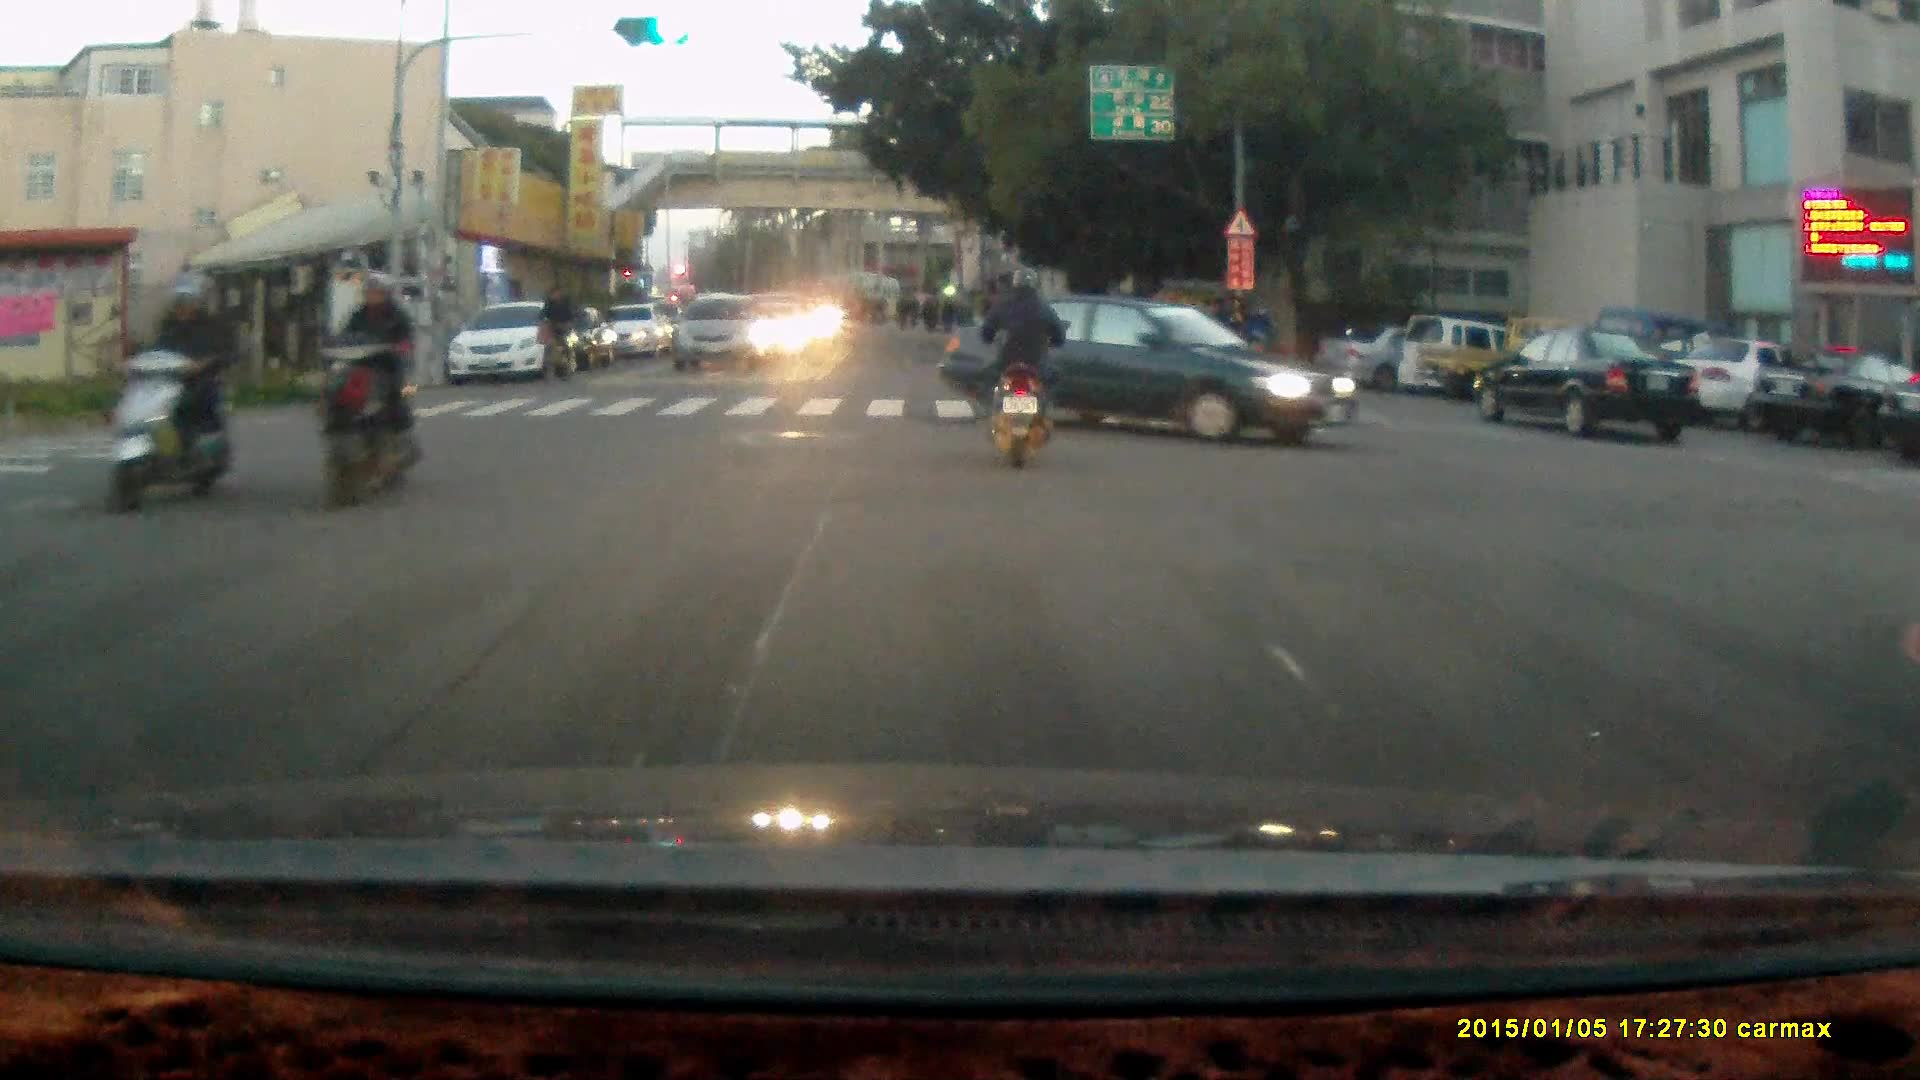rider: (105, 270, 238, 516), (306, 265, 425, 514), (977, 263, 1068, 464), (535, 281, 576, 381), (1233, 302, 1279, 374)
vehicle: (927, 288, 1359, 449), (1472, 331, 1705, 440), (1409, 314, 1623, 404), (1656, 334, 1845, 434), (1755, 350, 1920, 451), (448, 293, 580, 379), (1315, 314, 1503, 371), (672, 295, 774, 374)
